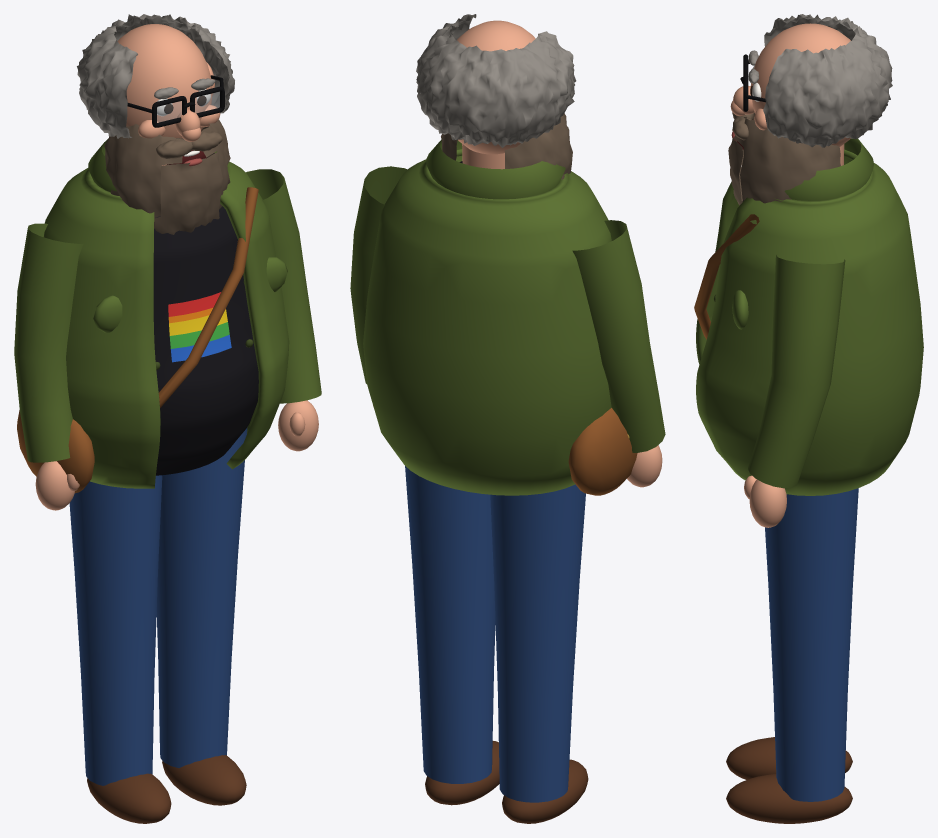
The model's file is joachim.glb.
3 views of the same model, side by side, from view 1: azimuth 30°, elevation 25°; view 2: azimuth 150°, elevation 25°; view 3: azimuth 270°, elevation 25° (orthographic). The views are drawn at different scales.
Parts seen in each view (by area): view 1: Jacket, Leg, Leg.001, Shirt, SleeveR, Hair, SleeveL, Face, Beard, Chin, Shoe, Shoe.001 (+8 smaller); view 2: Jacket, Leg, Leg.001, Hair, SleeveR, Collar, Bag, SleeveL, Beard, Face, Shoe, Shoe.001 (+2 smaller); view 3: Jacket, Leg.001, SleeveL, Hair, Beard, Shoe.001, Face, Collar, Shoe, Strap, HandL, Chin (+1 smaller).
Boxes of the visible parts, x1,y1,x2,y2 form: Jacket: (44, 161, 289, 488); Leg: (69, 475, 162, 785); Leg.001: (156, 427, 247, 767); Shirt: (153, 206, 258, 475); SleeveR: (14, 223, 83, 462); Hair: (77, 14, 234, 138); SleeveL: (246, 169, 321, 403); Face: (117, 24, 212, 138); Beard: (104, 119, 230, 228); Chin: (154, 151, 222, 234); Shoe: (87, 773, 171, 823); Shoe.001: (162, 755, 246, 805); Jacket: (363, 149, 611, 495); Leg: (490, 484, 585, 802); Leg.001: (405, 466, 495, 783); Hair: (416, 14, 576, 147); SleeveR: (572, 220, 665, 452); Collar: (426, 138, 565, 199); Bag: (568, 408, 637, 495); SleeveL: (350, 166, 407, 383); Beard: (441, 113, 572, 179); Face: (457, 20, 535, 154); Shoe: (502, 759, 588, 823); Shoe.001: (425, 741, 499, 805); Jacket: (696, 149, 923, 495); Leg.001: (765, 488, 858, 801); SleeveL: (748, 254, 845, 488); Hair: (763, 14, 892, 147); Beard: (733, 113, 840, 203); Shoe.001: (726, 774, 852, 823); Face: (750, 23, 850, 146); Collar: (784, 138, 873, 200); Shoe: (726, 737, 852, 779); Strap: (694, 214, 759, 339); HandL: (749, 479, 786, 527); Chin: (728, 129, 742, 205).
Bounding box in the file's own units: 0.7159 × 1.81 × 0.4886.
